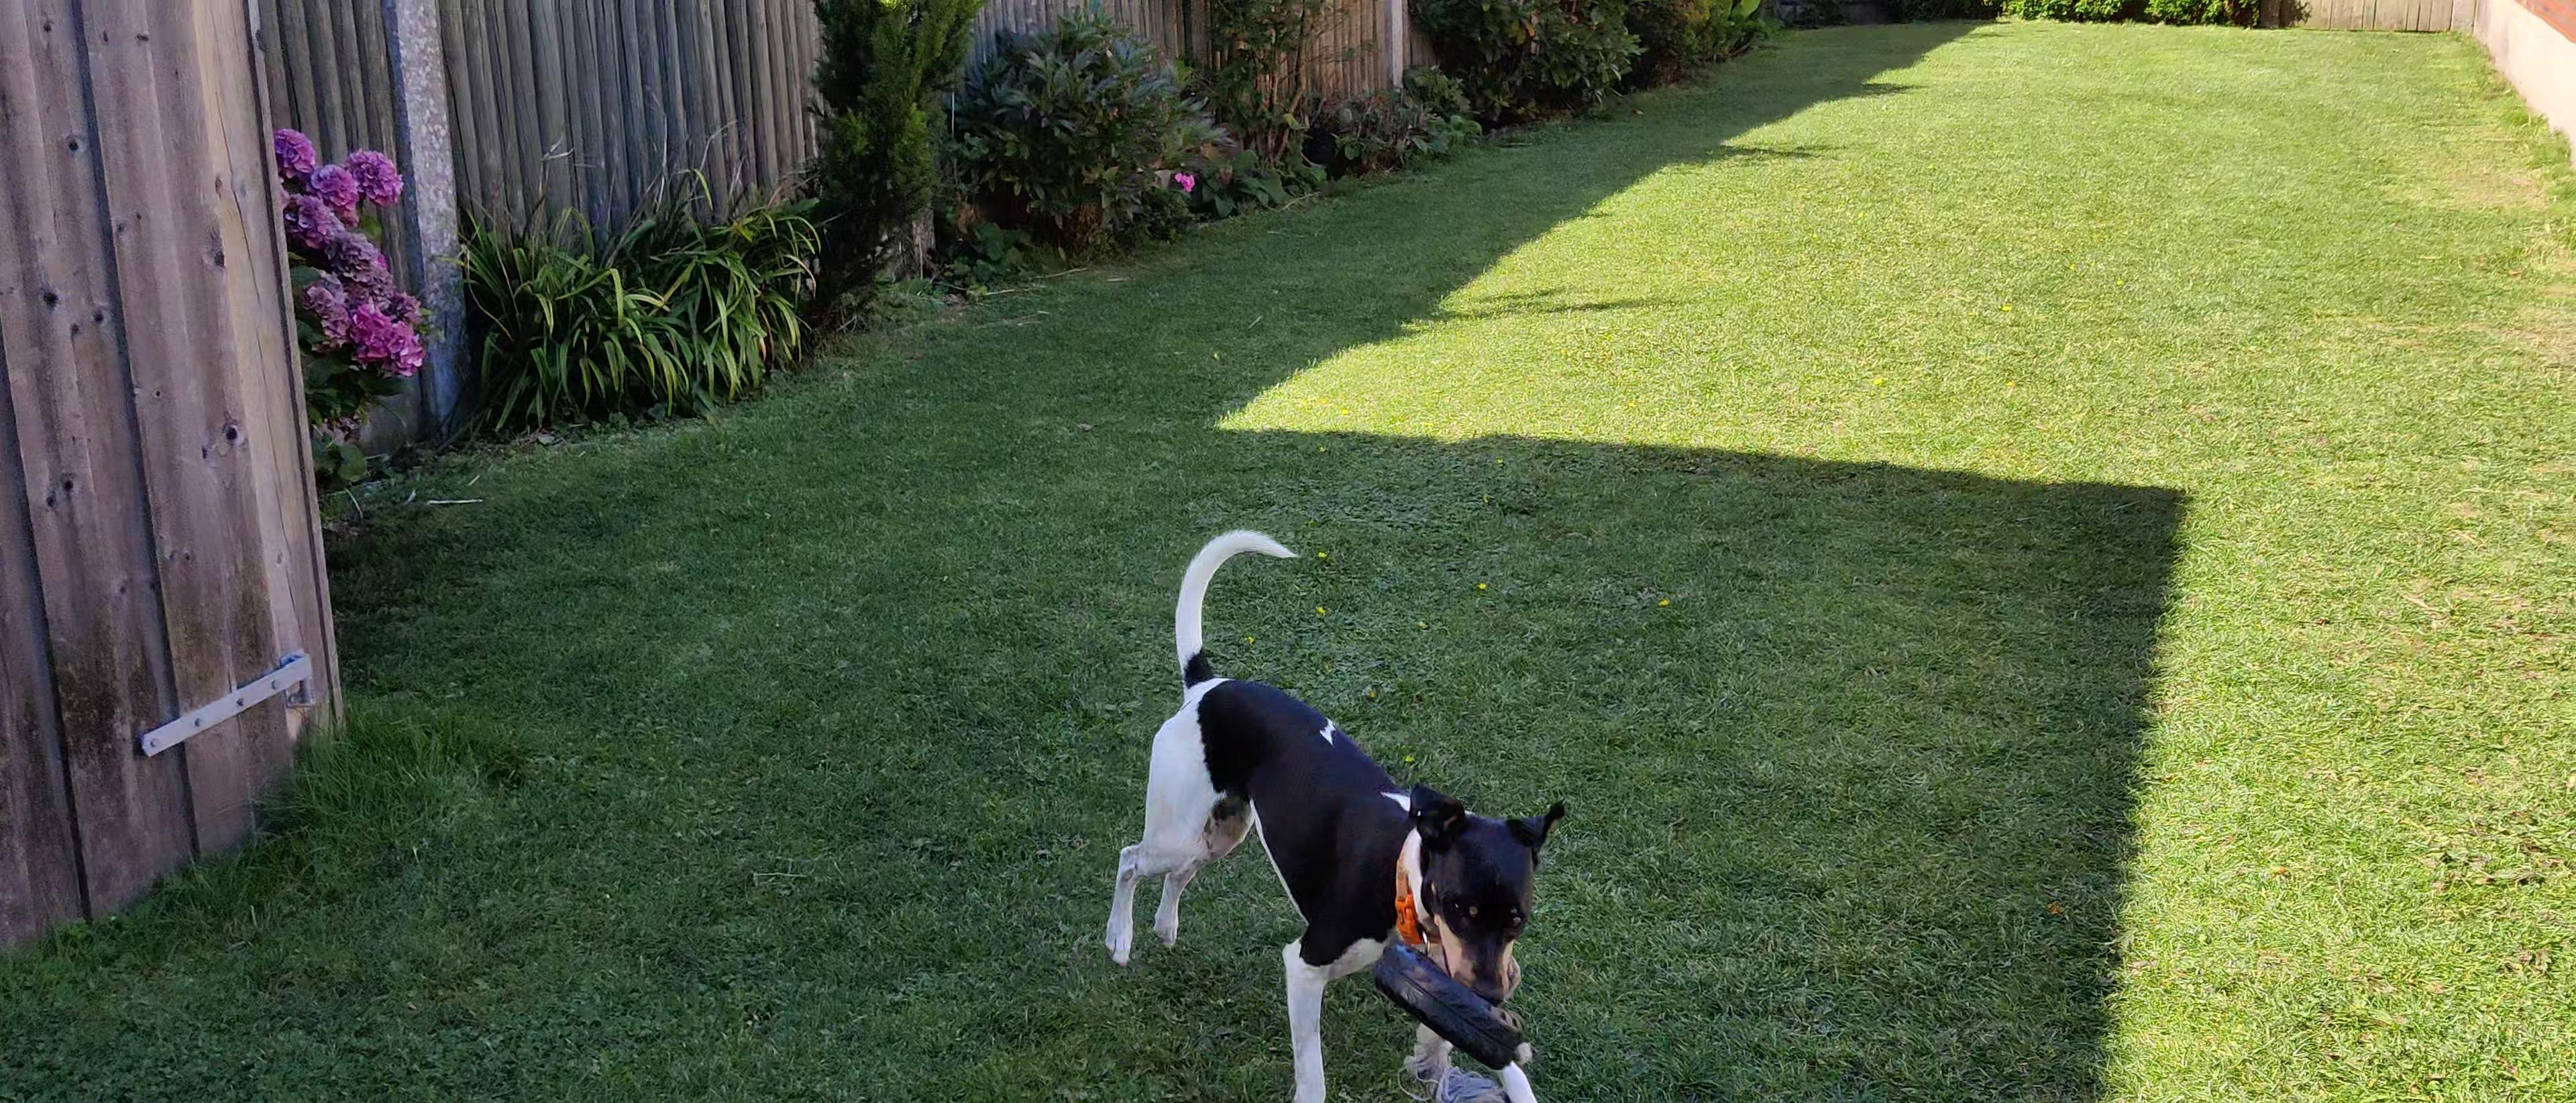Dog: (1092, 523, 1574, 1103)
